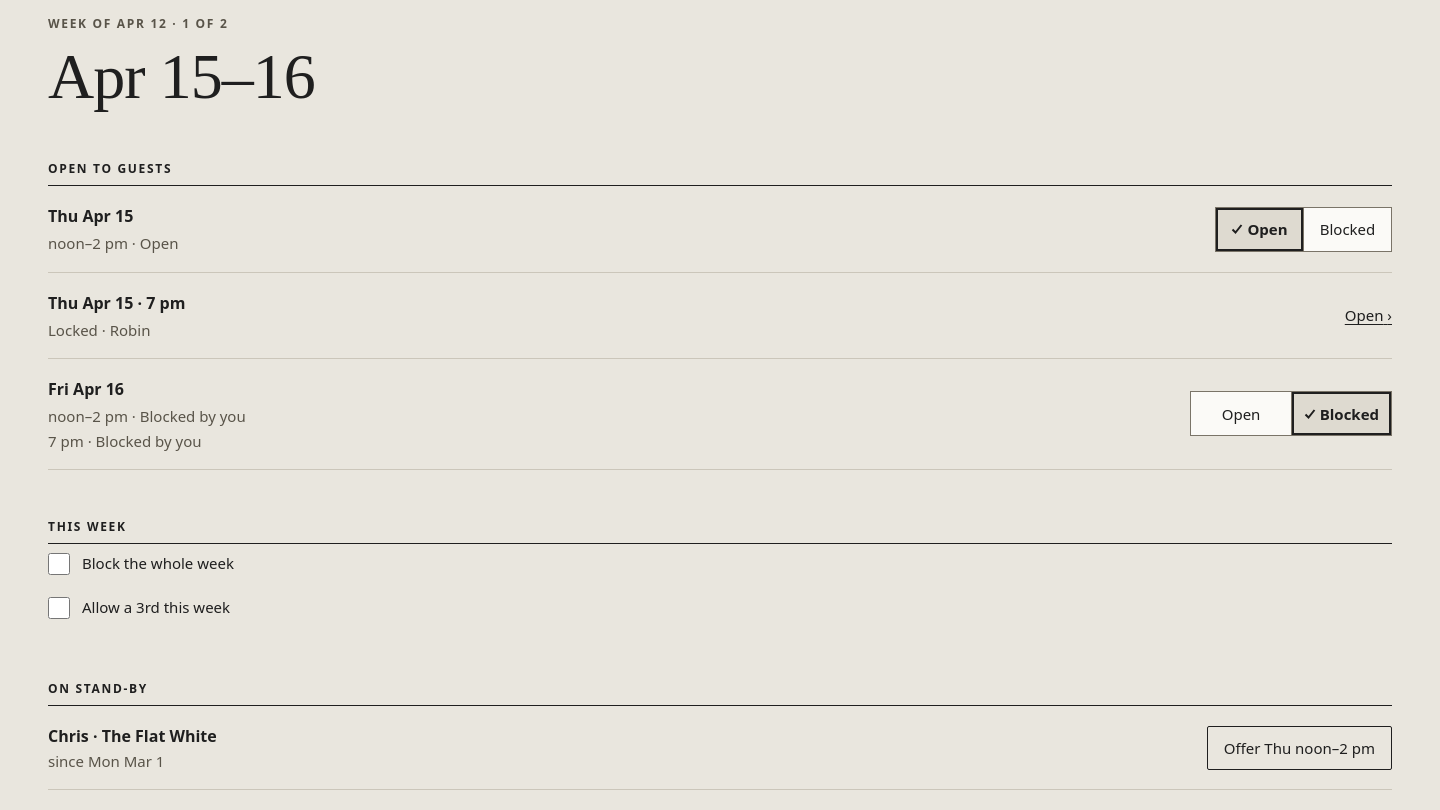
Test: WeekEditor › pr78 F4: a confirm that finds them already moved (409, none left) is done: no empty ask
Click the radio button labelled "Blocked" in the row of "· Open" at (1348, 230), box [1304, 208, 1392, 252]
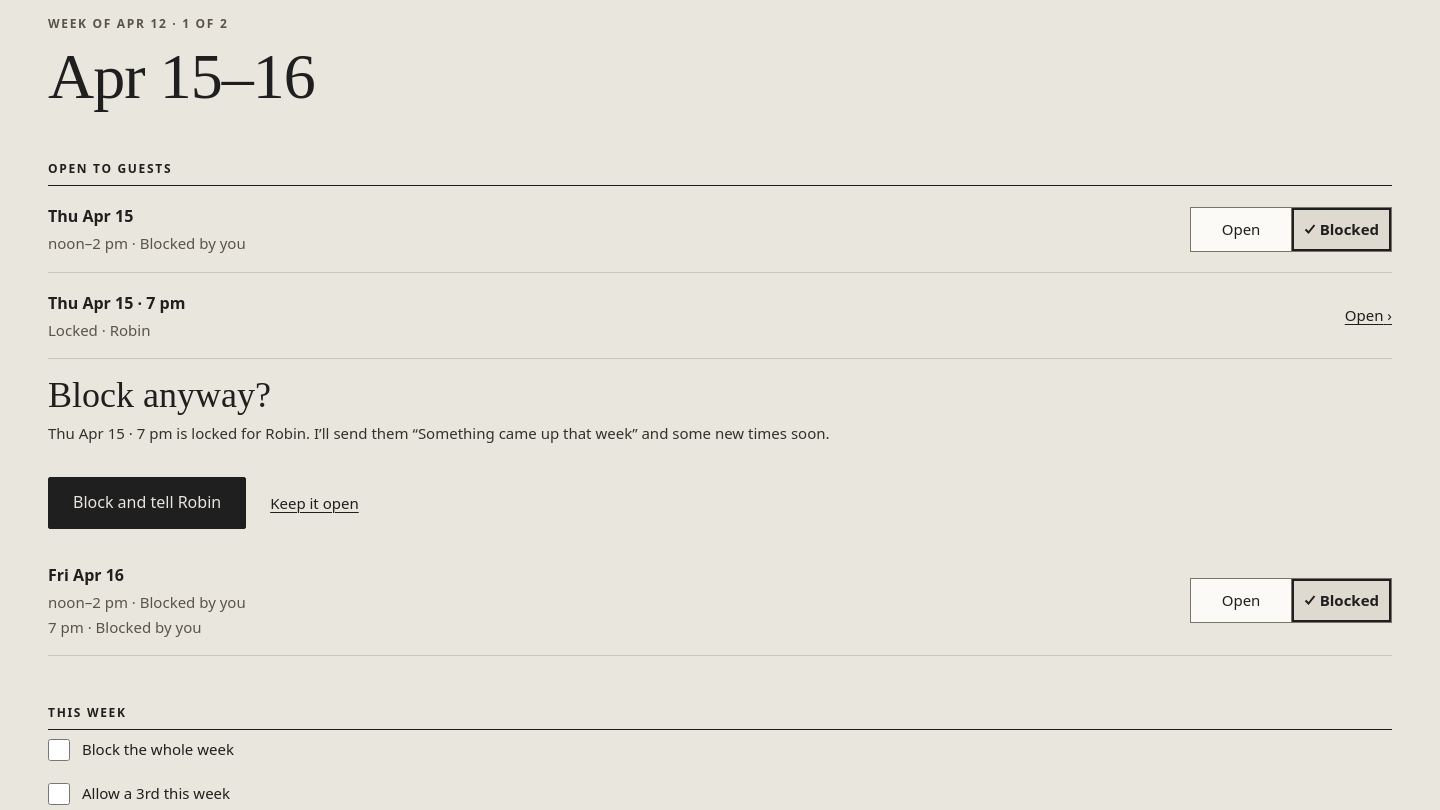
Click the button "Block and tell Robin" at (147, 503), box [48, 477, 246, 529]
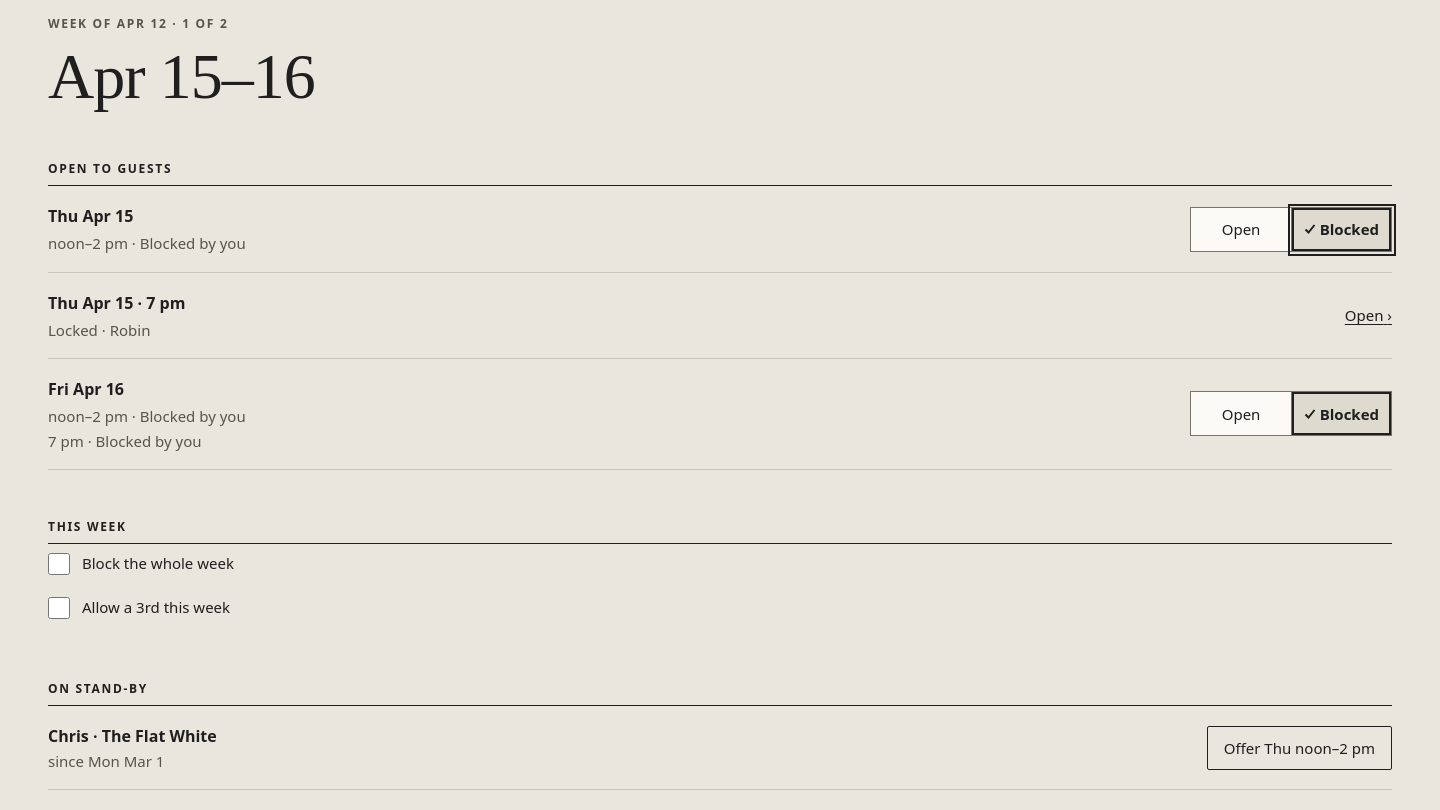
Check: the heading "Block anyway?" is gone
